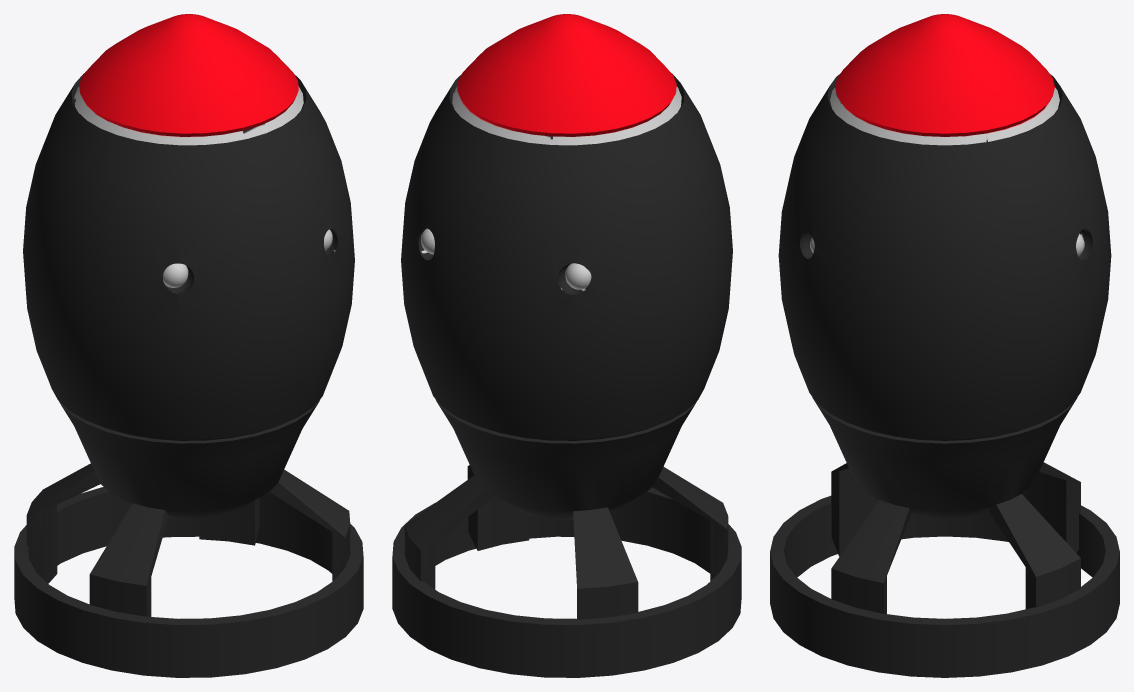
Rendered from NUKE.fbx.
3 renders of one model, left to right at view 1: azimuth 30°, elevation 25°; view 2: azimuth 150°, elevation 25°; view 3: azimuth 270°, elevation 25°, orthographic.
Parts seen in each view (by area): view 1: AtomicBomb; view 2: AtomicBomb; view 3: AtomicBomb.
Boxes of the visible parts, box(x1,y1,x2,y2) form: AtomicBomb: box(14, 14, 363, 677); AtomicBomb: box(392, 14, 741, 677); AtomicBomb: box(770, 14, 1119, 677).
Bounding box in the file's own units: 1.26 × 2.34 × 1.26.
Materials: 1 (1 with a texture image).
